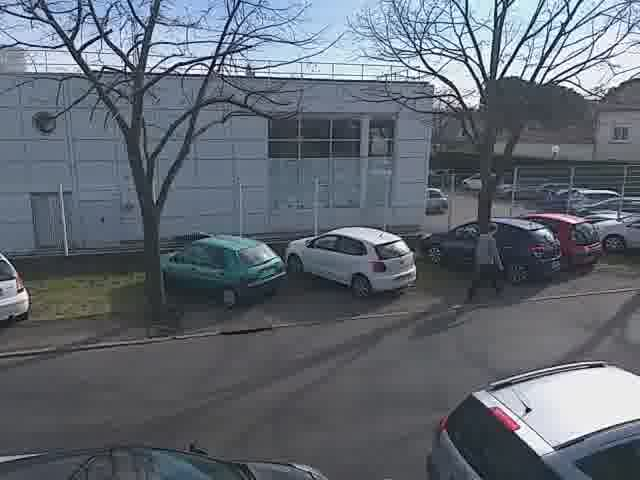persona: (465, 209, 508, 304)
